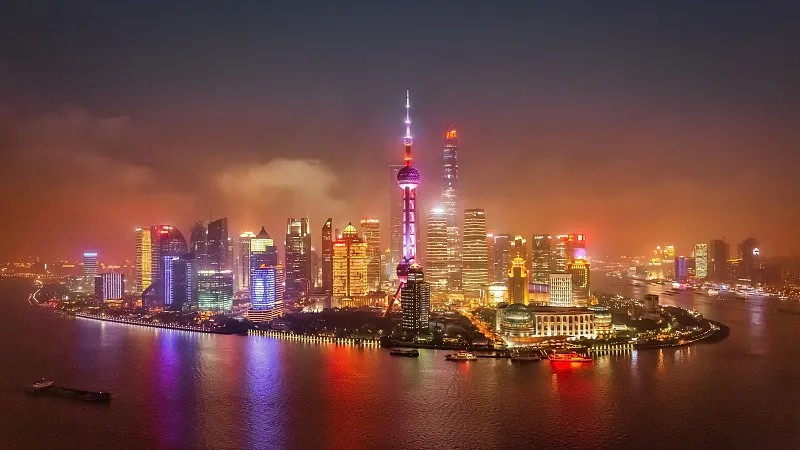Oriental: (385, 89, 421, 314)
